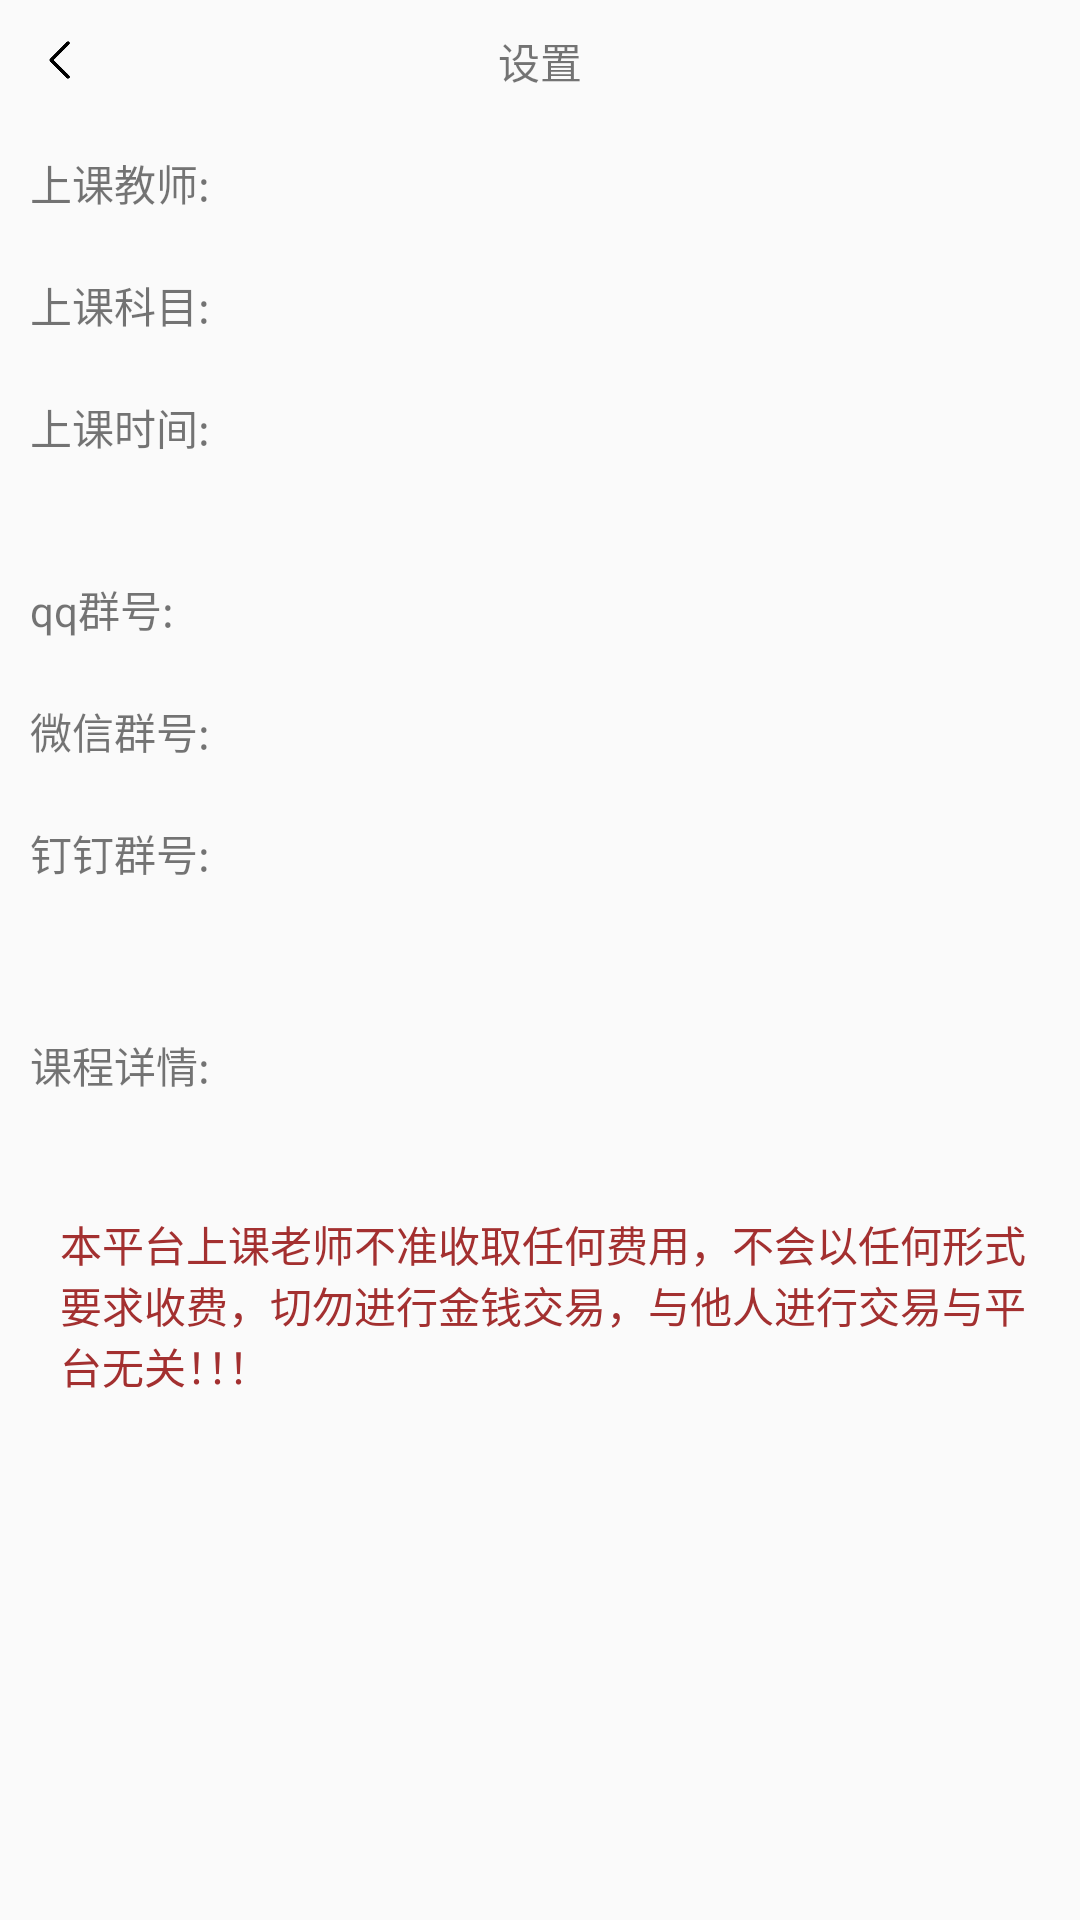

Where icons sit on this 1080 x 1920 app screen, as (x1, y1, x2, y2):
leftjiantou: (49, 41, 70, 79)
